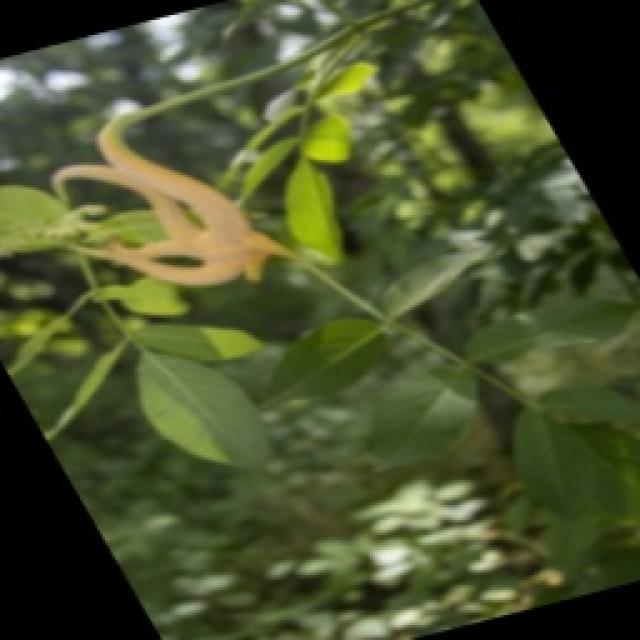Elderberry_rust: (50, 105, 298, 290)
